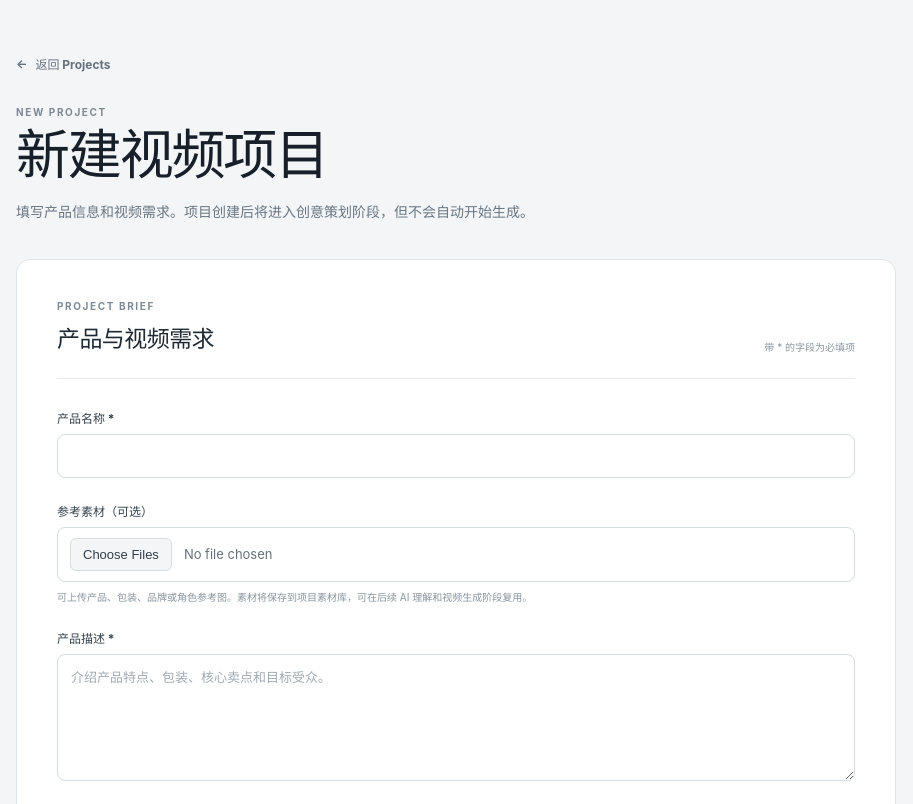
Test case: CreateProjectPage › maps INVALID_PROJECT_NAME to the name field
Type "  测试柠檬  " into the field labelled "产品名称 *" at (456, 456), box top-left (57, 434), bottom-right (855, 478)
Type "  新鲜柠檬饮料  " into the text box labelled "产品描述 *" at (456, 717), box top-left (57, 654), bottom-right (855, 781)
(page scrolled)
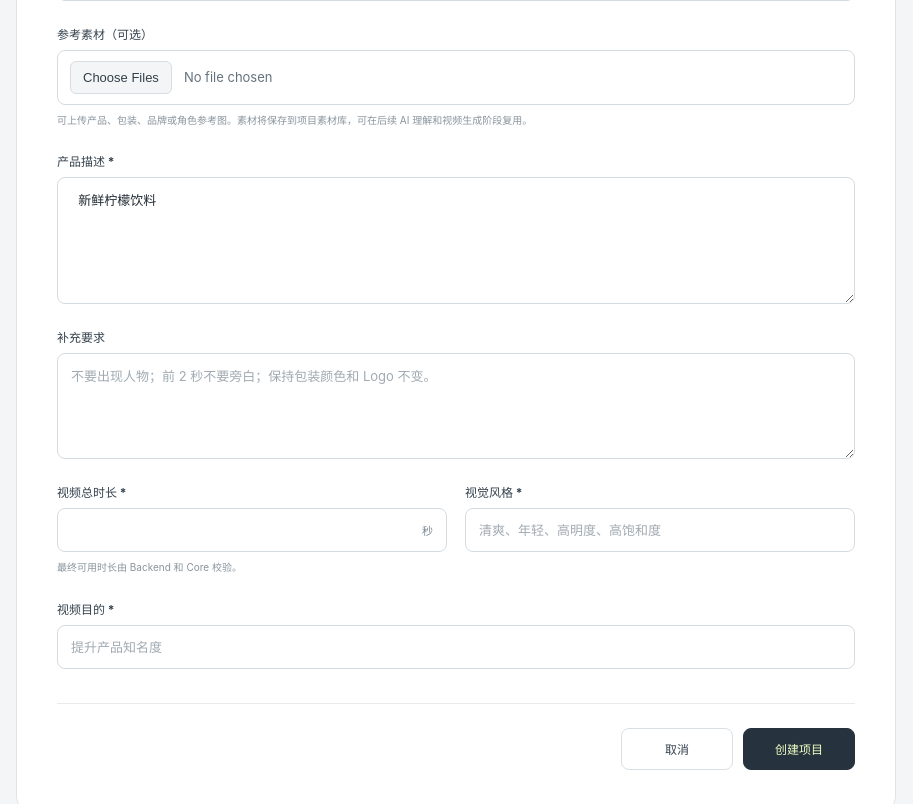
Type "  不要出现人物  " into the text box labelled "补充要求" at (456, 406), box top-left (57, 353), bottom-right (855, 459)
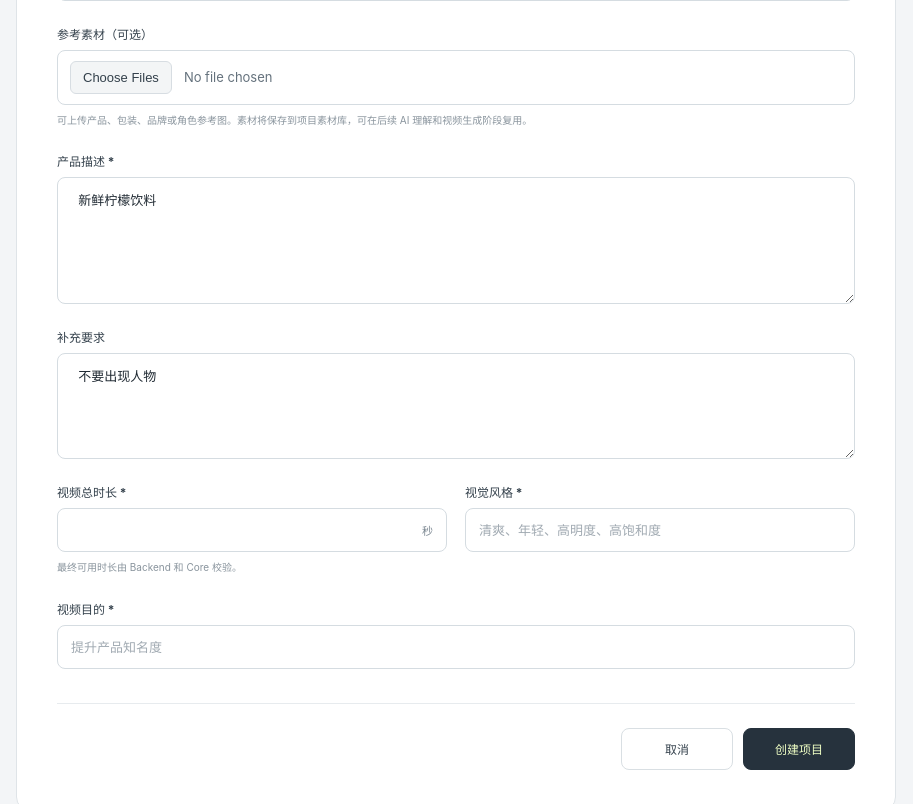
Type "18" into the number field labelled "视频总时长 *" at (252, 530), box top-left (57, 508), bottom-right (447, 552)
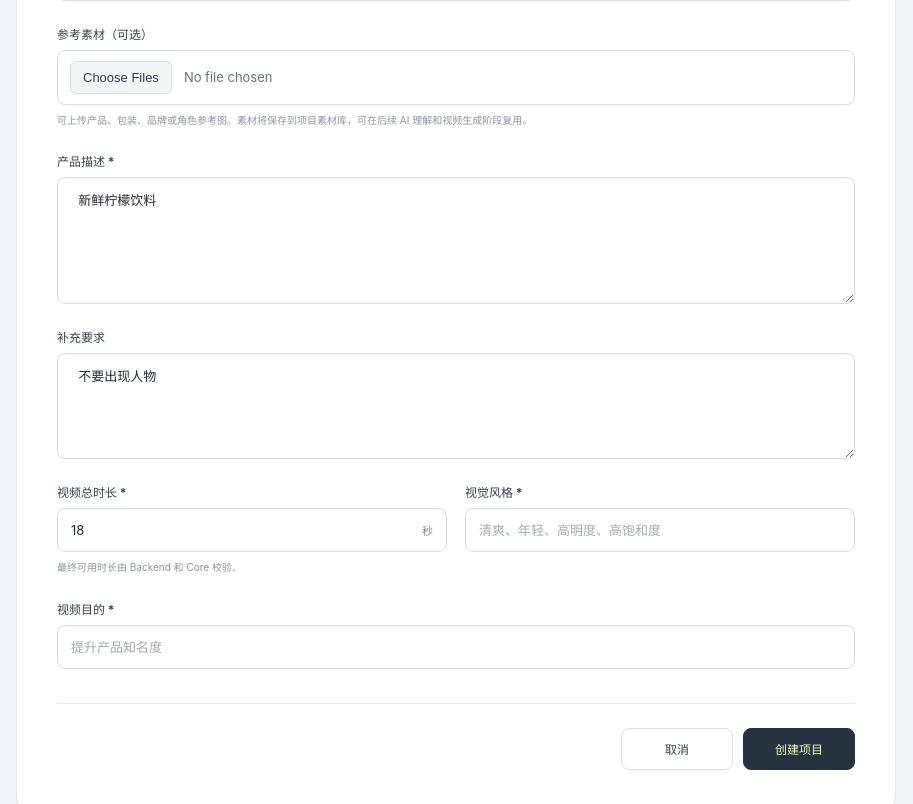
Type "  清爽、年轻  " into the field labelled "视觉风格 *" at (660, 530), box top-left (465, 508), bottom-right (855, 552)
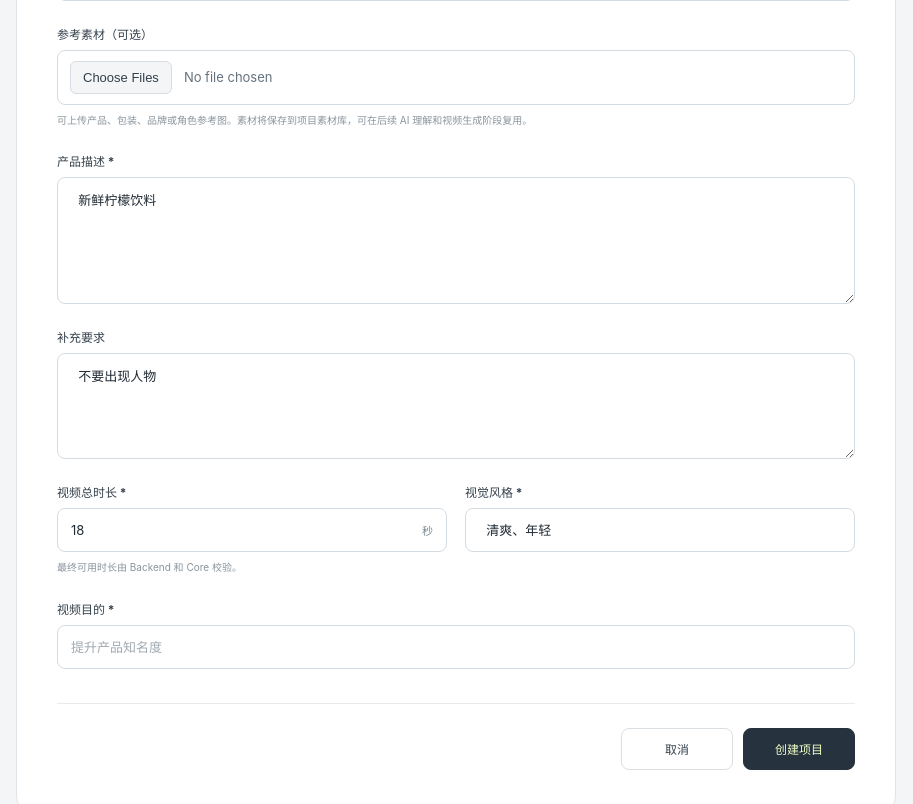
Type "  提升产品知名度  " into the field labelled "视频目的 *" at (456, 647), box top-left (57, 625), bottom-right (855, 669)
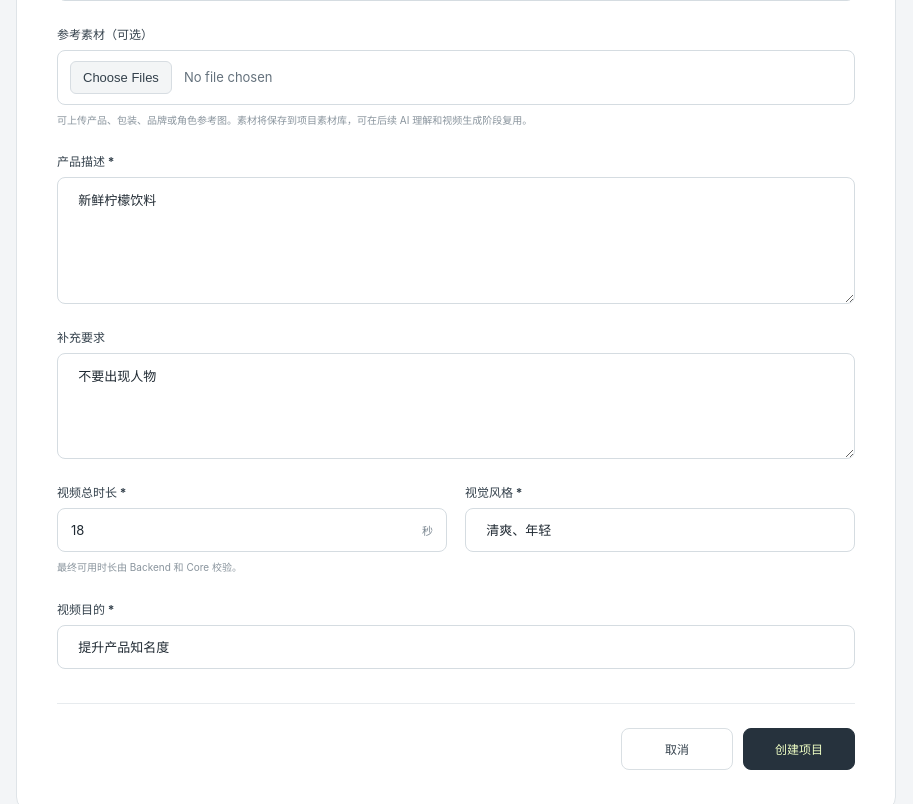
Click the button "创建项目" at (799, 749), box top-left (743, 728), bottom-right (855, 770)
(page scrolled)
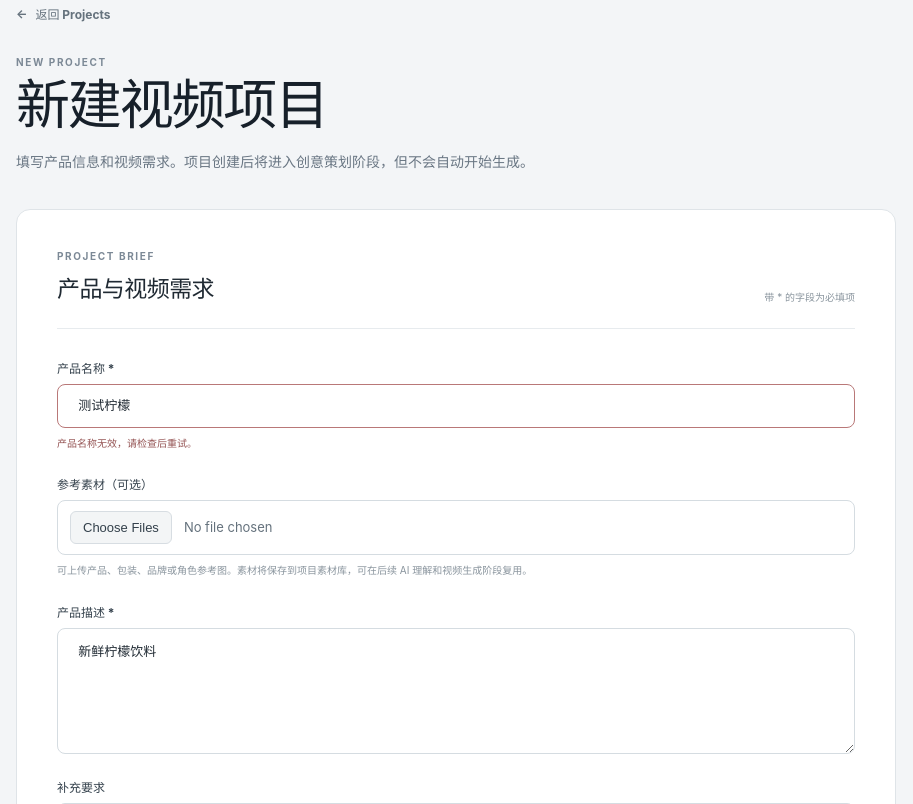
Expected: the text "产品名称无效，请检查后重试。" is shown, top-left (57, 436), bottom-right (197, 448)
